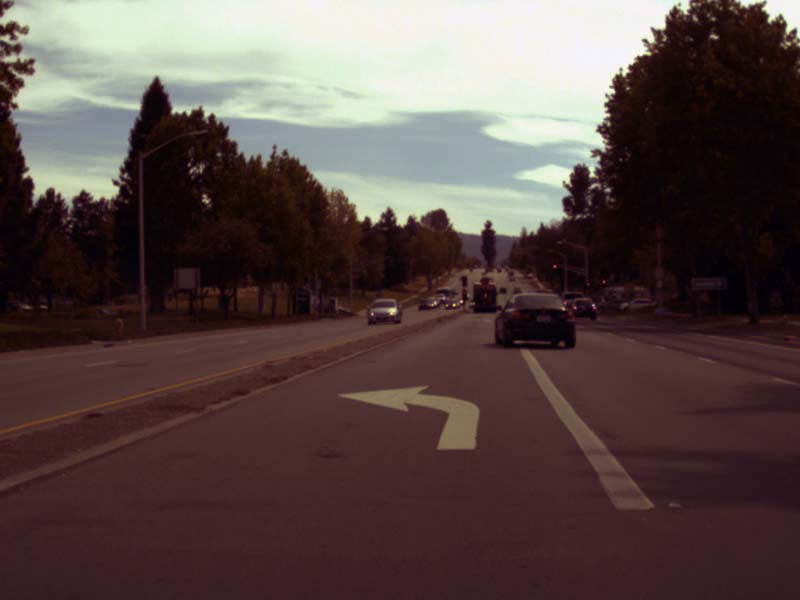Yellow: (550, 262, 558, 271), (600, 277, 607, 285), (584, 281, 590, 289)
